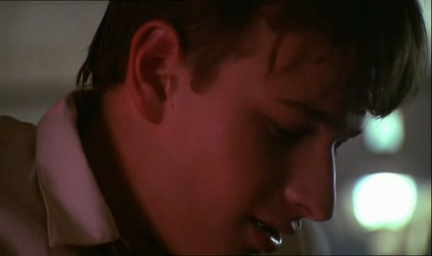ecu: (1, 1, 432, 256)
face: (176, 57, 373, 256)
person: (1, 1, 428, 256)
